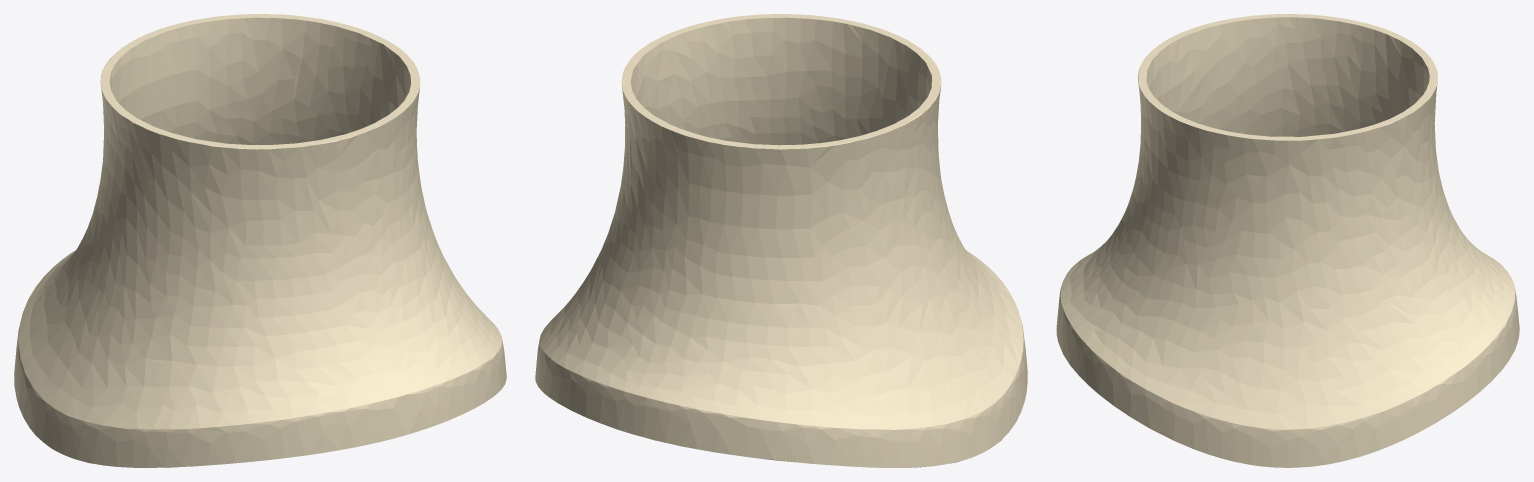
Rendered from flobi-neck.dae.
The picture shows the model from 3 angles, left to right: view 1: azimuth 30°, elevation 25°; view 2: azimuth 150°, elevation 25°; view 3: azimuth 270°, elevation 25°; orthographic projection. The views are drawn at different scales.
Parts seen in each view (by area): view 1: v_mask_head_back_001; view 2: v_mask_head_back_001; view 3: v_mask_head_back_001.
Boxes of the visible parts, left/top/right/bottom form: v_mask_head_back_001: left=14, top=14, right=506, bottom=467; v_mask_head_back_001: left=535, top=14, right=1027, bottom=467; v_mask_head_back_001: left=1056, top=14, right=1519, bottom=467.
Bounding box in the file's own units: 1.31 × 1.31 × 0.9144.
